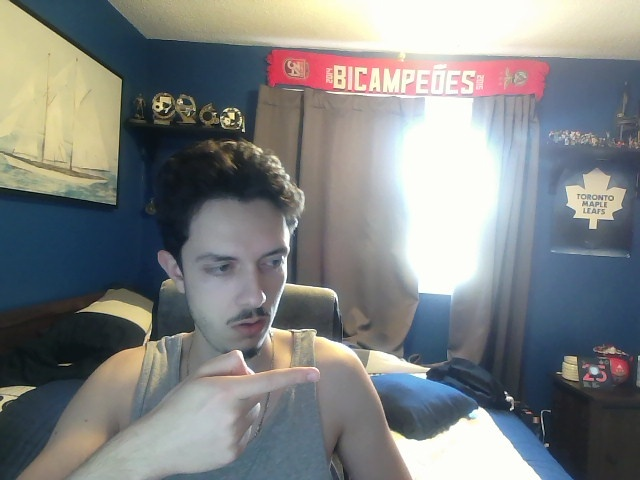Left: (151, 349, 321, 477)
